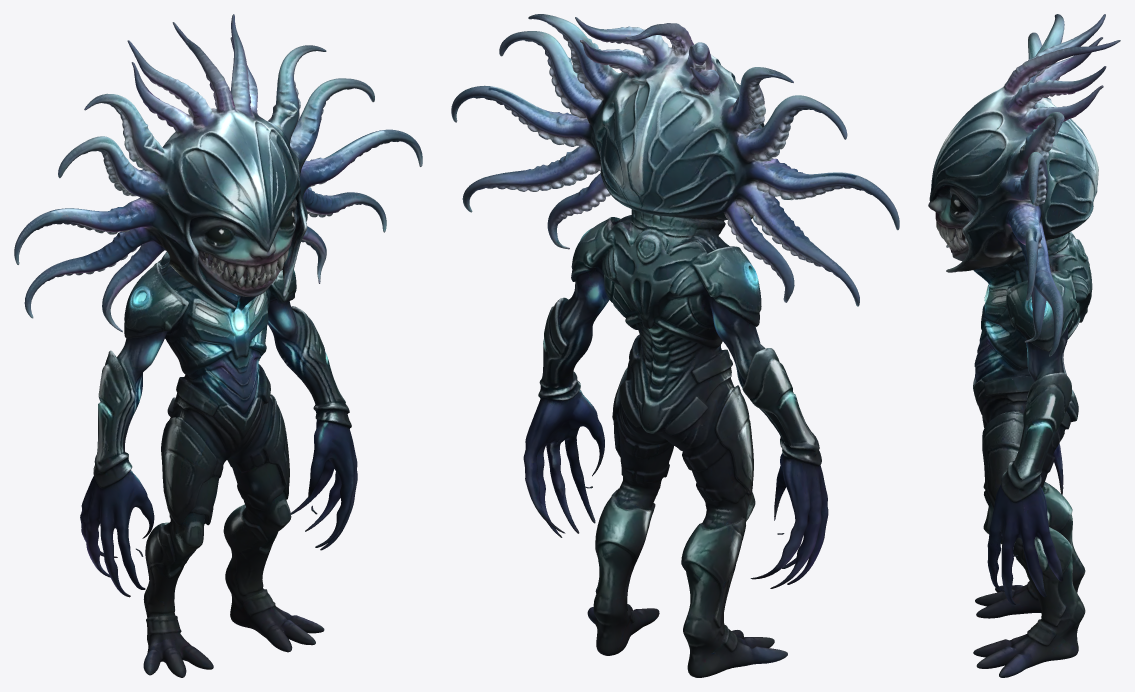
File: Meshy_AI_Icebound_Warden_0514112758_texture-compressed.glb
3 views of the same model, side by side, from view 1: azimuth 30°, elevation 25°; view 2: azimuth 150°, elevation 25°; view 3: azimuth 270°, elevation 25° (orthographic). The views are drawn at different scales.
Parts seen in each view (by area): view 1: Mesh_0; view 2: Mesh_0; view 3: Mesh_0.
Part boxes in pixels (left/top/right/bottom): Mesh_0: left=14, top=14, right=422, bottom=677; Mesh_0: left=451, top=14, right=899, bottom=677; Mesh_0: left=928, top=14, right=1120, bottom=677.
Size of the model in its own units: 7.23 by 10 by 2.94.
Materials: 1 (1 with a texture image).
